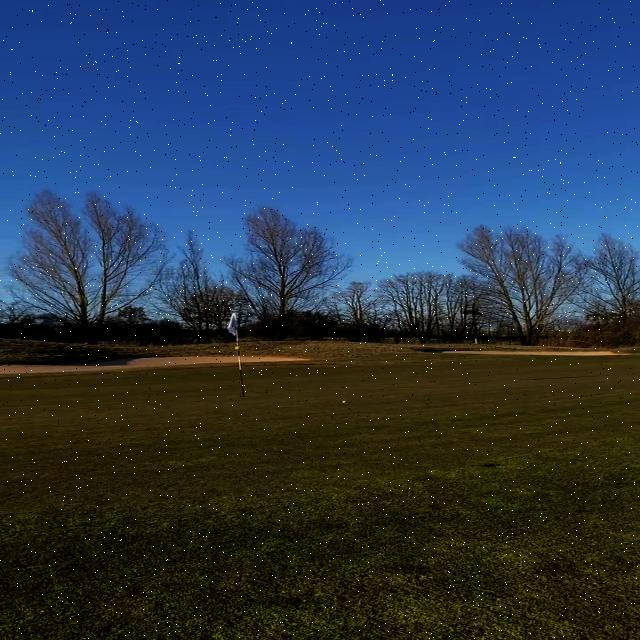GolfBall: (343, 401, 347, 404), (296, 375, 298, 376)
